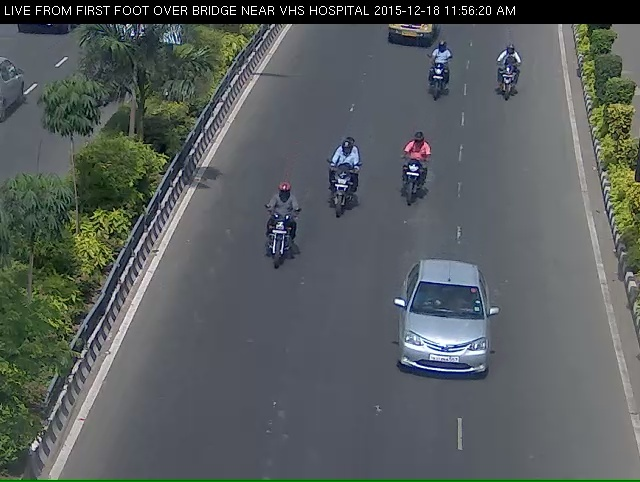Car: (393, 275, 494, 402)
Person: (252, 201, 301, 306), (382, 142, 433, 228), (314, 152, 359, 231), (491, 49, 522, 110), (418, 52, 452, 105)
